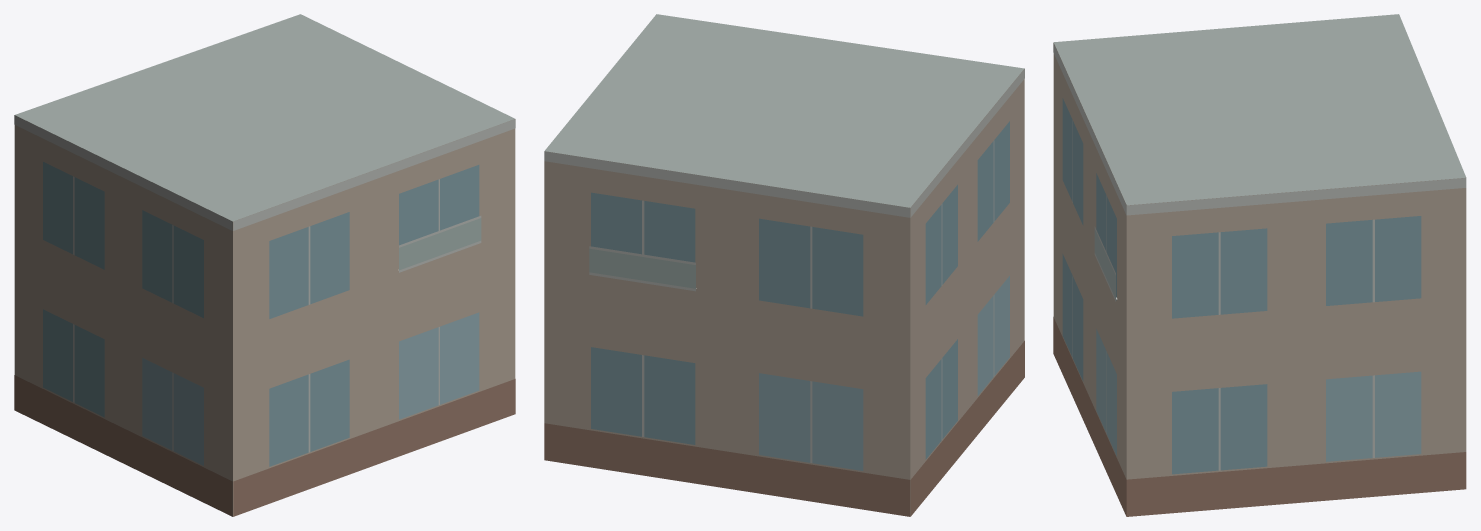
Rendered from survey-upis-32501862.glb.
3 renders of one model, left to right at view 1: azimuth 30°, elevation 25°; view 2: azimuth 150°, elevation 25°; view 3: azimuth 270°, elevation 25°, orthographic. The views are drawn at different scales.
Visible parts, largest first — view 1: survey-upis-32501862.tmp; view 2: survey-upis-32501862.tmp; view 3: survey-upis-32501862.tmp.
Part boxes in pixels (x1,y1,x2,y2): survey-upis-32501862.tmp: (14, 14, 515, 516); survey-upis-32501862.tmp: (544, 14, 1024, 516); survey-upis-32501862.tmp: (1053, 14, 1466, 516).
Size of the model in its own units: 9.89 by 7.5 by 9.02.
